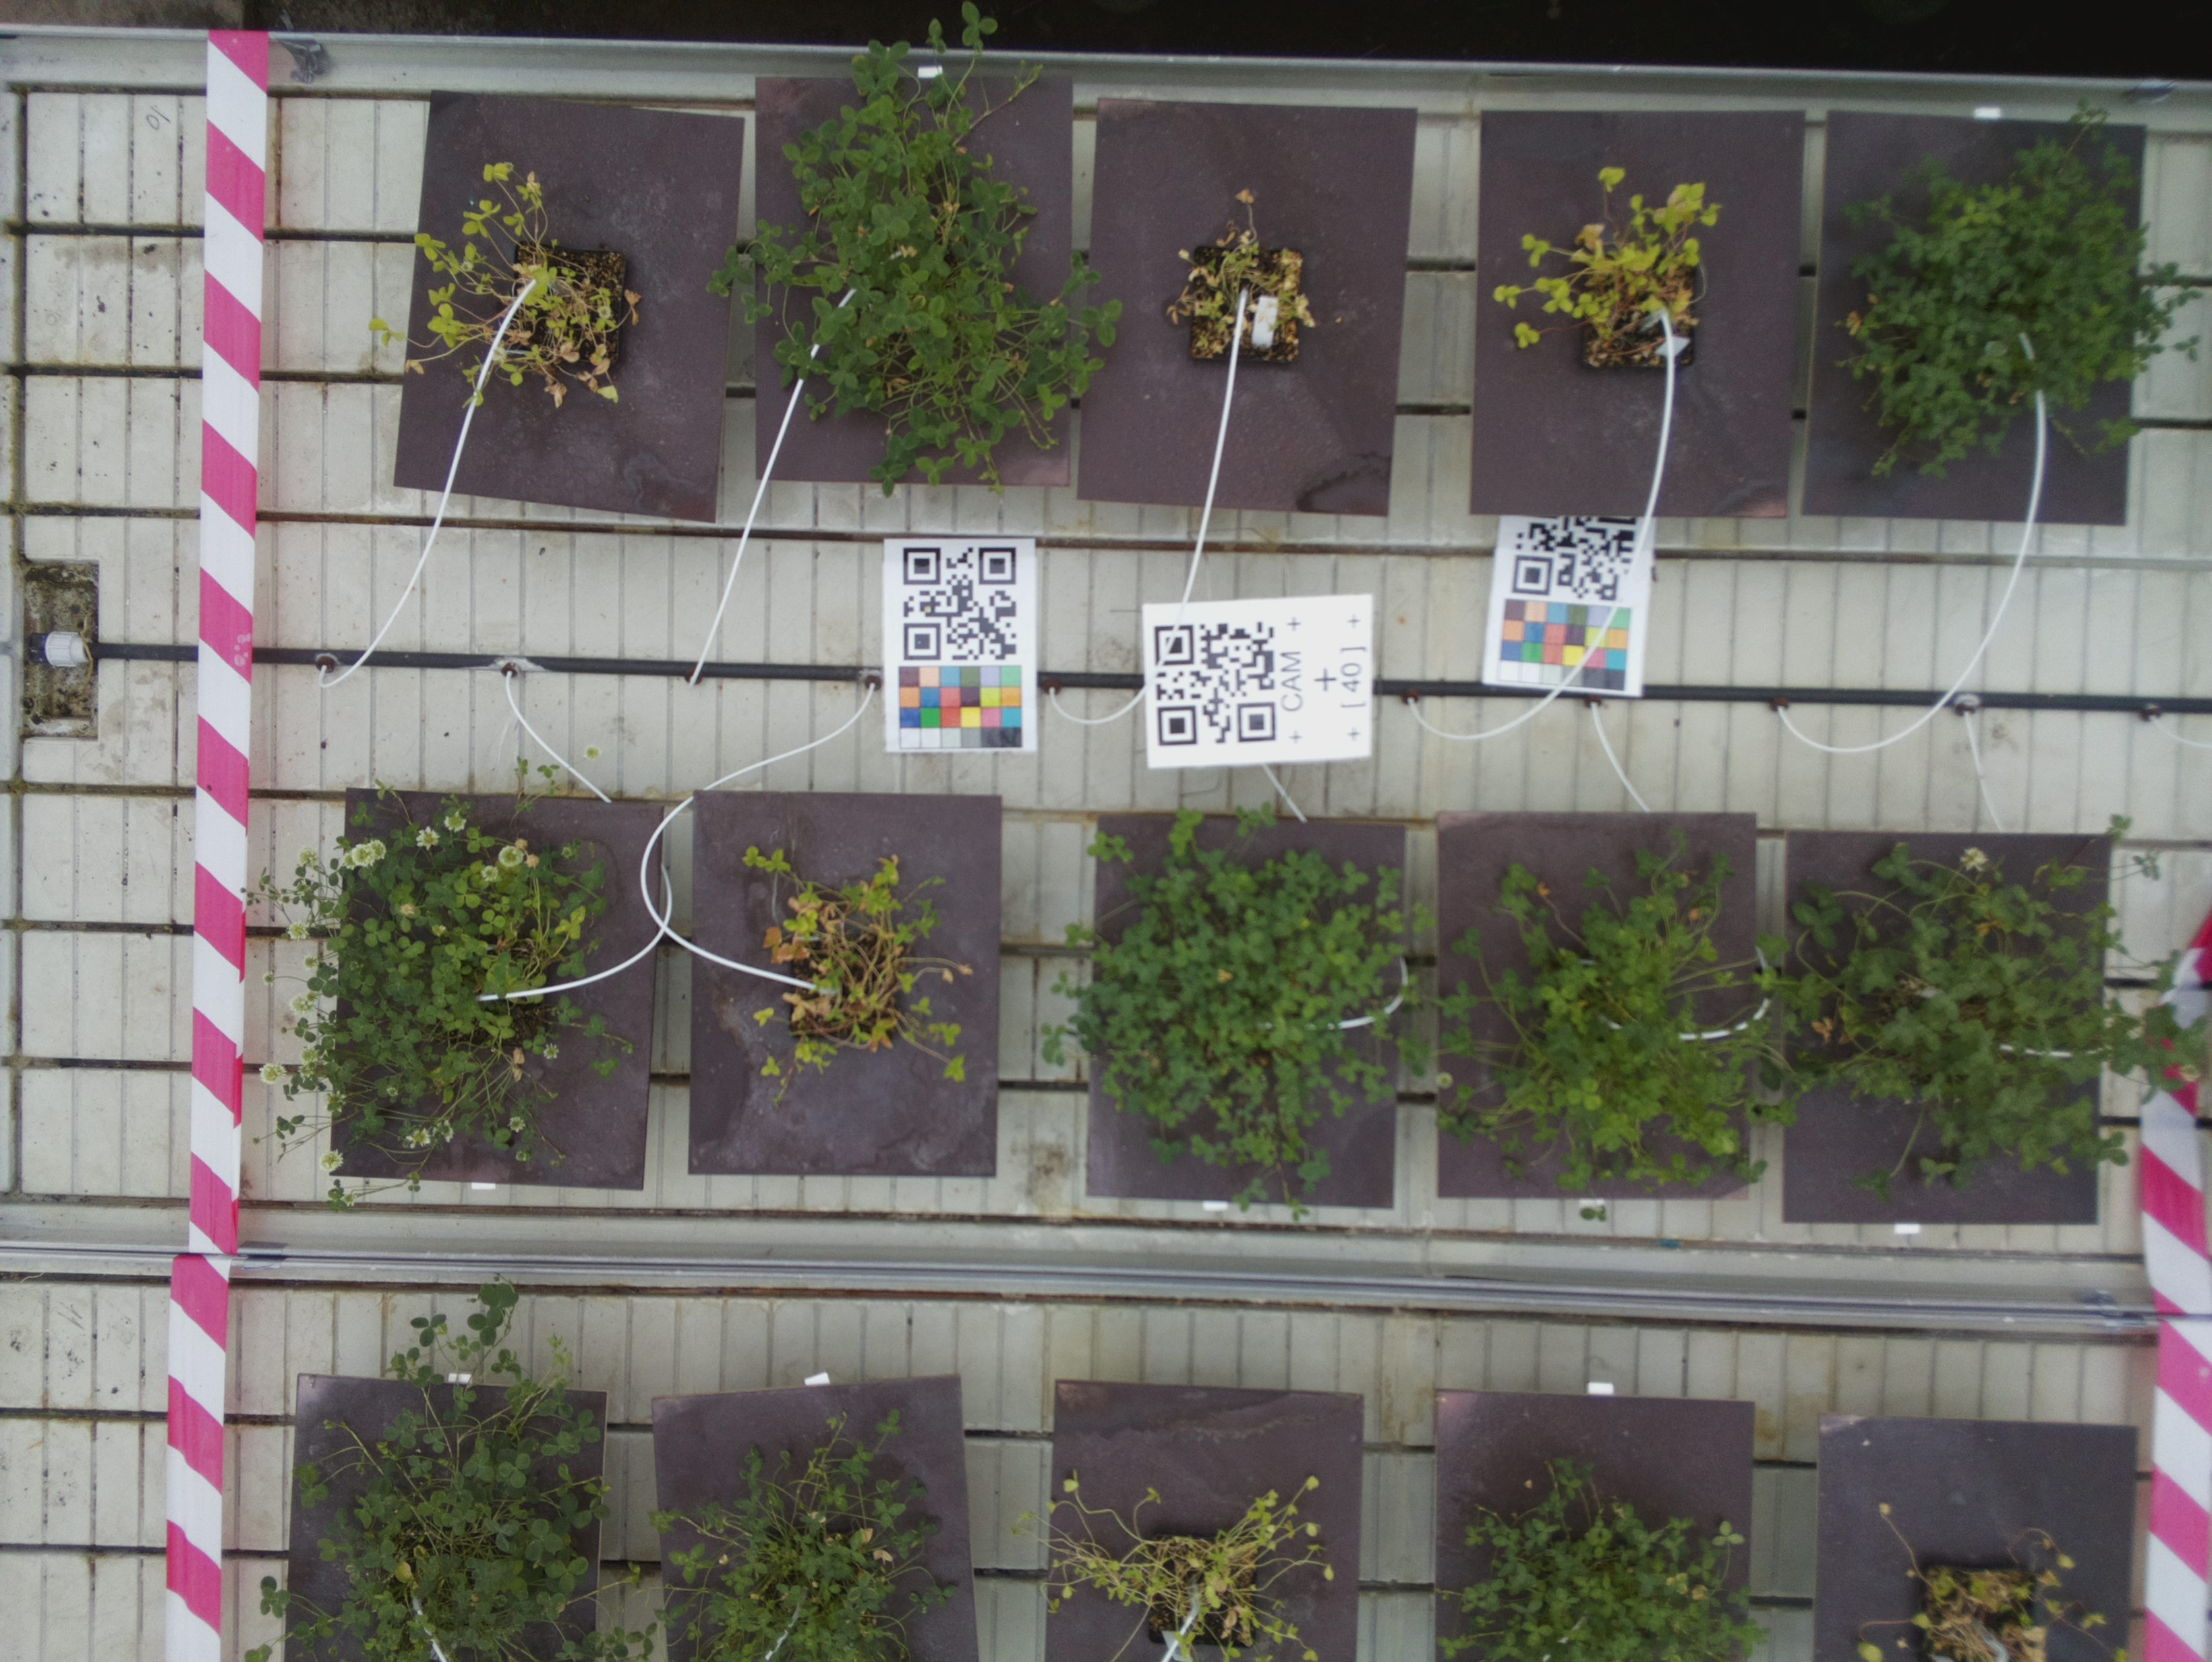POT: (1817, 112, 2146, 536), (409, 89, 732, 517), (754, 73, 1079, 484), (1091, 106, 1411, 519), (347, 791, 667, 1201), (1482, 108, 1793, 519), (1783, 831, 2097, 1231), (691, 789, 1006, 1178), (1435, 814, 1753, 1198), (1093, 814, 1398, 1208)
QRCODE: (1144, 597, 1381, 766)
QRCOLOR: (887, 536, 1041, 747), (1489, 517, 1648, 697)
